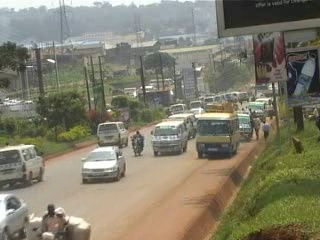Car: (79, 145, 127, 184), (0, 190, 40, 233), (185, 108, 206, 120)
Motorcycle: (24, 203, 92, 232), (128, 129, 144, 158)
